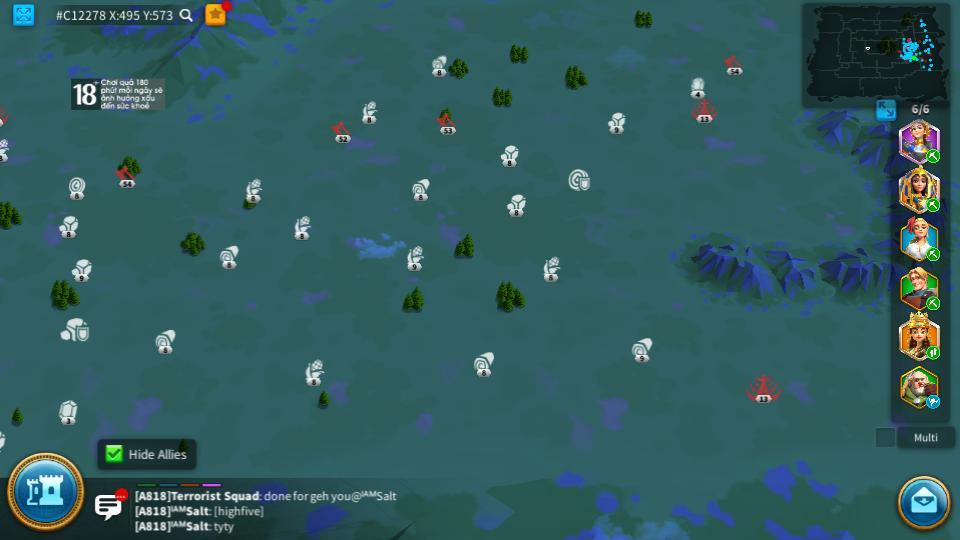gem-z-out: (56, 399, 78, 425)
march_idle: (925, 396, 942, 408)
march_marching: (925, 197, 941, 212), (926, 345, 941, 359), (925, 150, 942, 162), (925, 297, 941, 308)
